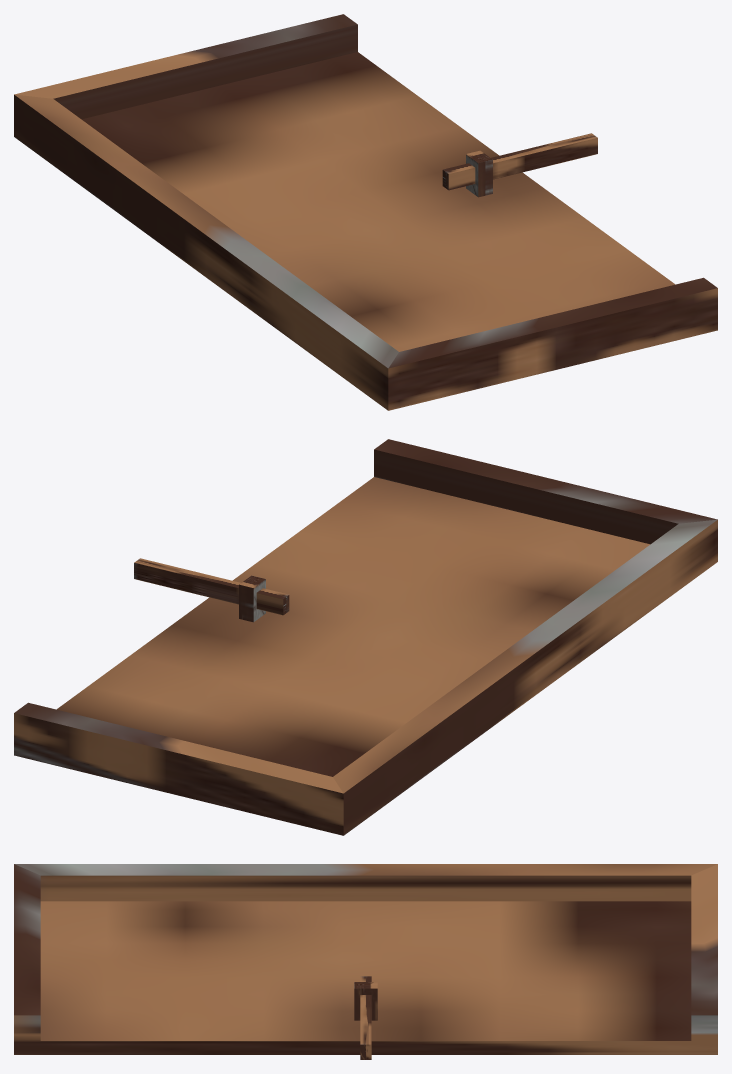
The model's file is TrampillaPIzquierda.obj.
The picture shows the model from 3 angles, top to bottom: view 1: azimuth 30°, elevation 25°; view 2: azimuth 150°, elevation 25°; view 3: azimuth 270°, elevation 25°; orthographic projection. The views are drawn at different scales.
Visible parts, largest first — view 1: TrampillaPIzquierda_Cube.266, Cube.219_Cube.270, Cube.217_Cube.269; view 2: TrampillaPIzquierda_Cube.266, Cube.219_Cube.270, Cube.217_Cube.269; view 3: TrampillaPIzquierda_Cube.266, Cube.219_Cube.270, Cube.217_Cube.269.
Part boxes in pixels (box(x1,y1,x2,y2)): TrampillaPIzquierda_Cube.266: box(14, 14, 717, 410); Cube.219_Cube.270: box(442, 133, 597, 190); Cube.217_Cube.269: box(466, 150, 492, 197); TrampillaPIzquierda_Cube.266: box(14, 439, 717, 835); Cube.219_Cube.270: box(134, 558, 289, 615); Cube.217_Cube.269: box(239, 575, 265, 622); TrampillaPIzquierda_Cube.266: box(14, 864, 717, 1054); Cube.219_Cube.270: box(360, 976, 371, 1059); Cube.217_Cube.269: box(354, 982, 377, 1020).
Size of the model in its own units: 0.7967 by 0.095 by 1.31.
1 material, 1 textured.
